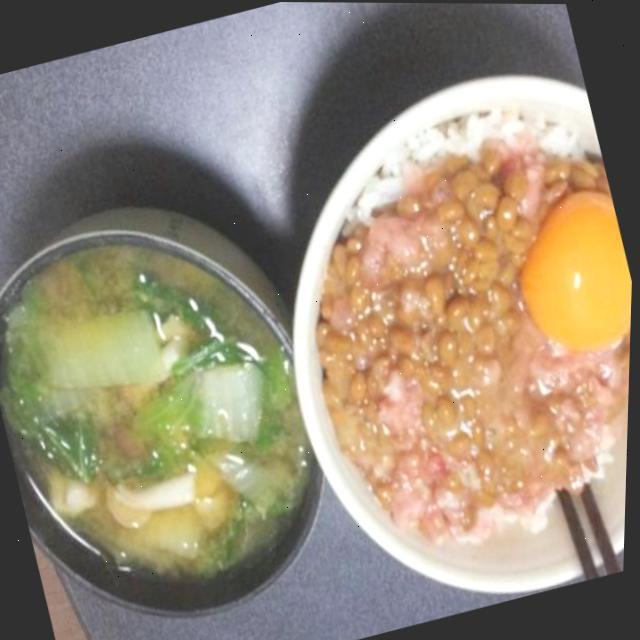汤锅炖物: (0, 173, 361, 640)
